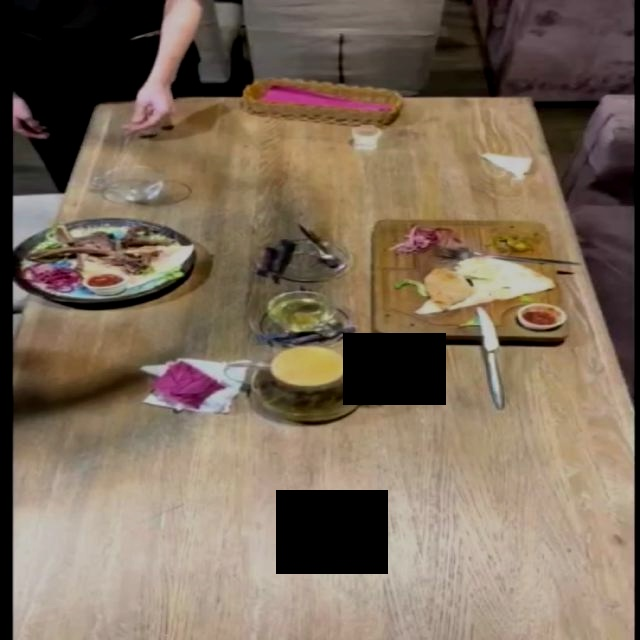meat: (368, 216, 575, 345), (0, 221, 236, 296)
tea: (250, 345, 370, 423)
